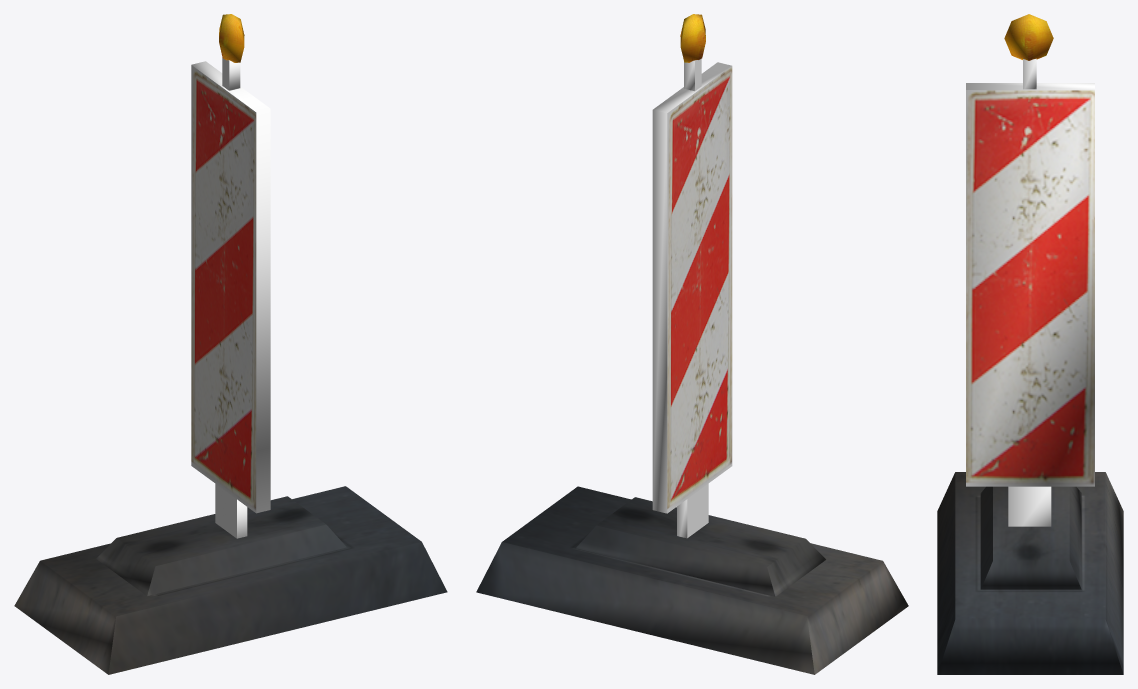
Rendered from stop_dng.FBX.
The picture shows the model from 3 angles, left to right: view 1: azimuth 30°, elevation 25°; view 2: azimuth 150°, elevation 25°; view 3: azimuth 270°, elevation 25°; orthographic projection.
Visible parts, largest first — view 1: stop; view 2: stop; view 3: stop.
Boxes of the visible parts, x1,y1,x2,y2 form: stop: [14, 14, 447, 674]; stop: [476, 14, 908, 674]; stop: [937, 14, 1123, 674].
Bounding box in the file's own units: 20.81 × 34.33 × 10.01.
